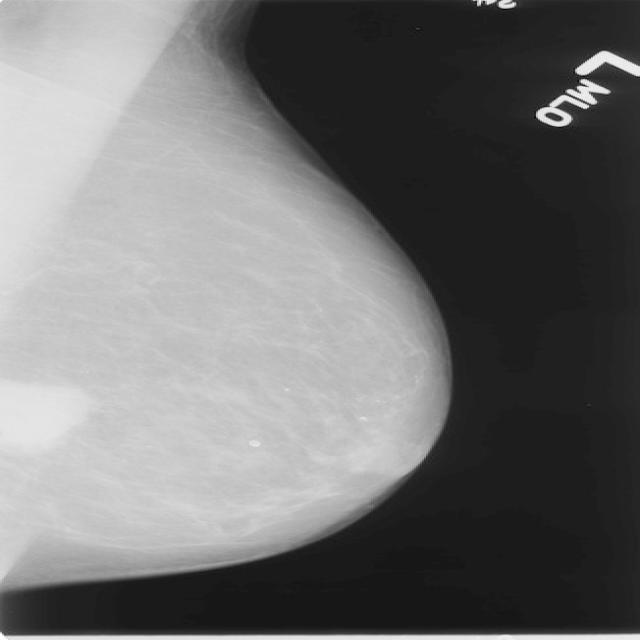tumour: (0, 379, 88, 453)
